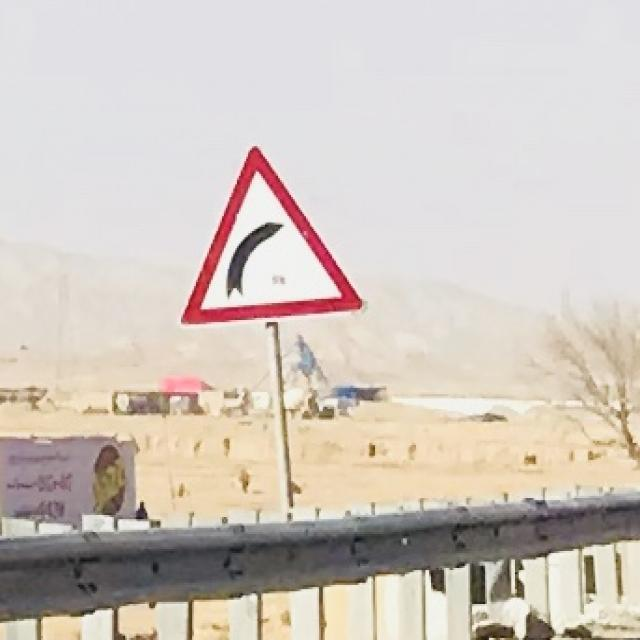right hand curve: (173, 138, 367, 331)
